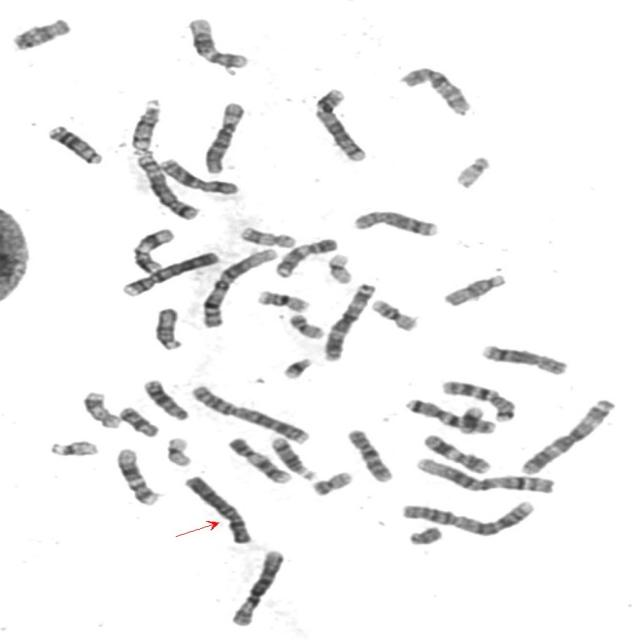A1: (197, 243, 282, 329), (412, 452, 559, 495)
A2: (187, 380, 314, 445), (397, 493, 541, 538)
A3: (516, 393, 620, 476), (320, 278, 380, 362)
B4: (180, 470, 256, 546), (118, 247, 224, 298)
B5: (131, 146, 202, 222), (310, 84, 371, 163)
C10: (396, 61, 476, 117), (343, 424, 397, 484)
C11: (419, 429, 495, 475), (129, 223, 178, 274)
C12: (184, 12, 252, 70), (112, 444, 164, 506)
C6: (226, 545, 288, 627), (199, 96, 250, 175)
C7: (437, 375, 520, 423), (401, 394, 499, 434)
C8: (478, 339, 572, 376), (349, 205, 443, 238)
C9: (224, 433, 296, 484), (271, 233, 341, 279)
D13: (44, 120, 107, 166), (139, 374, 192, 422)
D14: (267, 432, 320, 482), (127, 94, 166, 153)
D15: (439, 268, 511, 307), (150, 303, 186, 352)
E16: (367, 294, 423, 332), (254, 285, 314, 313)
E17: (79, 387, 124, 429), (236, 222, 299, 249)
E18: (7, 13, 75, 52), (116, 402, 162, 438)
F19: (161, 432, 196, 467), (324, 248, 356, 284)
F20: (308, 466, 357, 497), (285, 309, 328, 340)
G21: (278, 352, 316, 380), (456, 402, 486, 435)
G22: (451, 151, 494, 189), (45, 435, 102, 458)
X: (154, 154, 244, 196)
Y: (404, 522, 447, 546)
